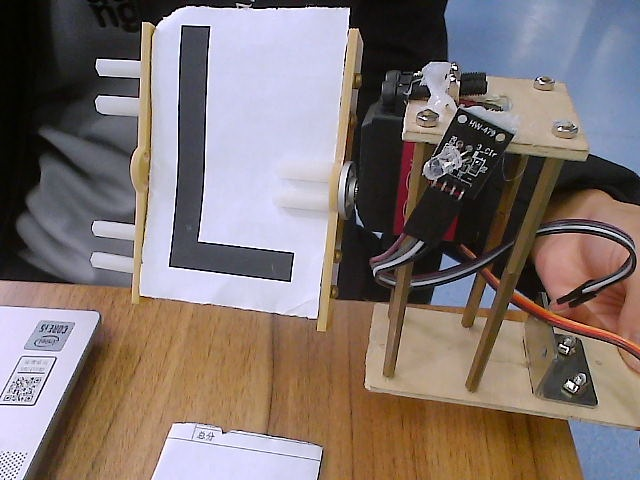L: (77, 2, 422, 360)
